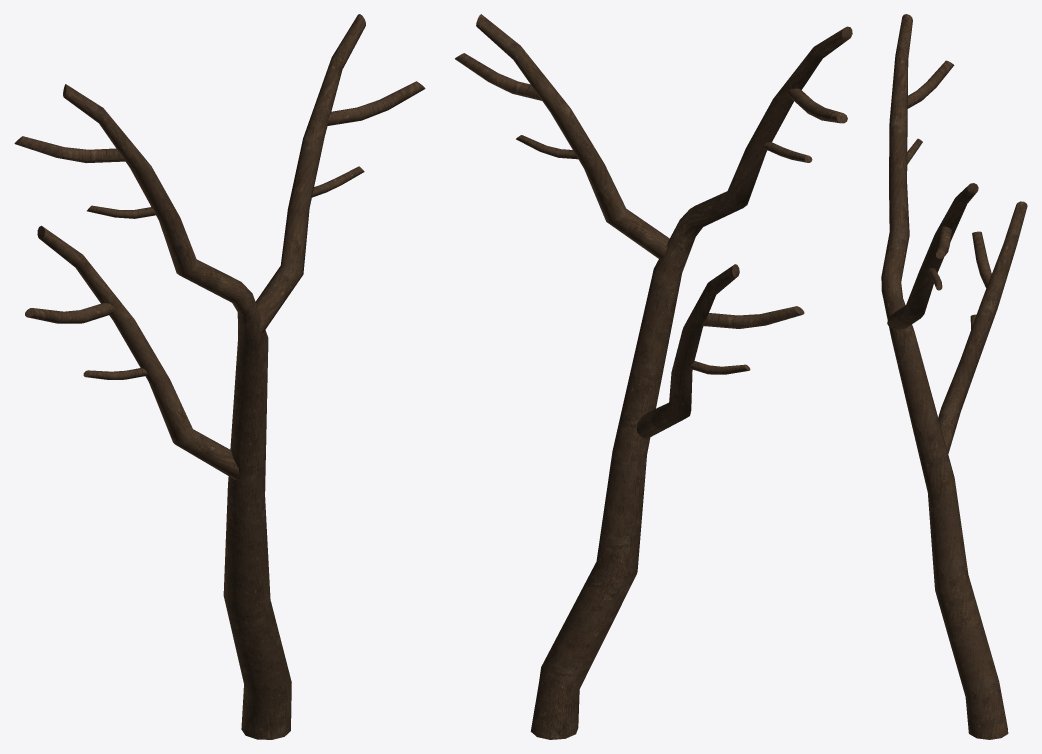
The picture shows the model from 3 angles, left to right: view 1: azimuth 30°, elevation 25°; view 2: azimuth 150°, elevation 25°; view 3: azimuth 270°, elevation 25°; orthographic projection. The views are drawn at different scales.
Visible parts, largest first — view 1: DeadBirch_5; view 2: DeadBirch_5; view 3: DeadBirch_5.
Part boxes in pixels (box(x1,y1,x2,y2)): DeadBirch_5: box(14, 14, 425, 739); DeadBirch_5: box(455, 14, 852, 739); DeadBirch_5: box(881, 14, 1027, 739).
Bounding box in the file's own units: 5.02 × 8.8 × 1.89.
1 material, 1 textured.
